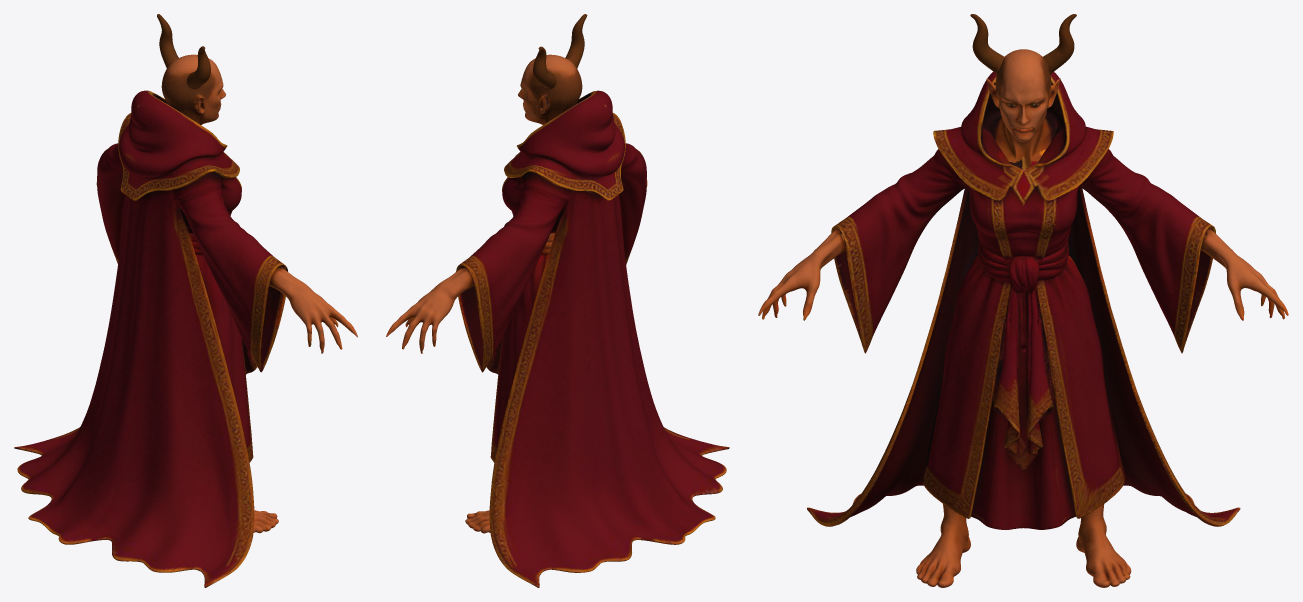
Rendered from Demonia+Bruja.fbx.
3 renders of one model, left to right at view 1: azimuth 30°, elevation 25°; view 2: azimuth 150°, elevation 25°; view 3: azimuth 270°, elevation 25°, orthographic. The views are drawn at different scales.
Visible parts, largest first — view 1: tripo_node_460f571c; view 2: tripo_node_460f571c; view 3: tripo_node_460f571c.
Part boxes in pixels (x1,y1,x2,y2): tripo_node_460f571c: (14,14,357,587); tripo_node_460f571c: (386,14,729,587); tripo_node_460f571c: (758,14,1288,587).
Bounding box in the file's own units: 46.63 × 100 × 88.4.
Materials: 1 (1 with a texture image).
